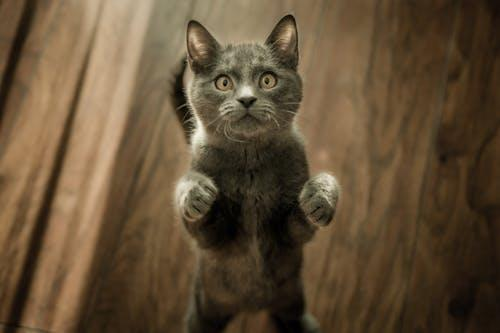kedo: (176, 14, 341, 332)
